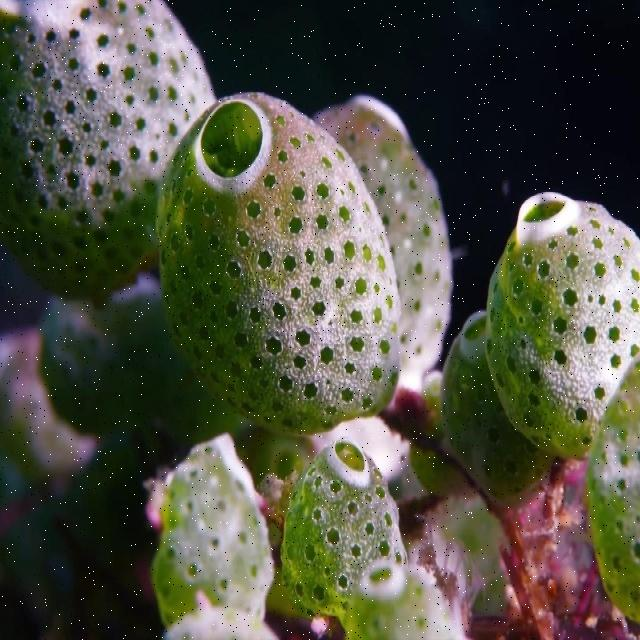reefs: (156, 91, 401, 433), (1, 246, 208, 638), (1, 0, 211, 303), (485, 188, 639, 463), (314, 95, 451, 388), (149, 433, 272, 626), (281, 439, 405, 625), (440, 309, 548, 497), (585, 357, 639, 623), (347, 564, 453, 638)
